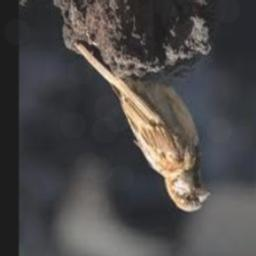Sparrow: (73, 40, 210, 213)
